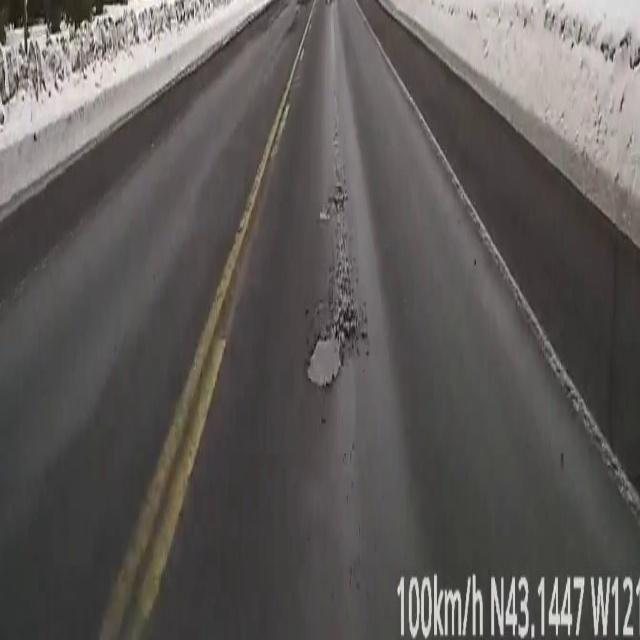pothole: (301, 325, 349, 391)
